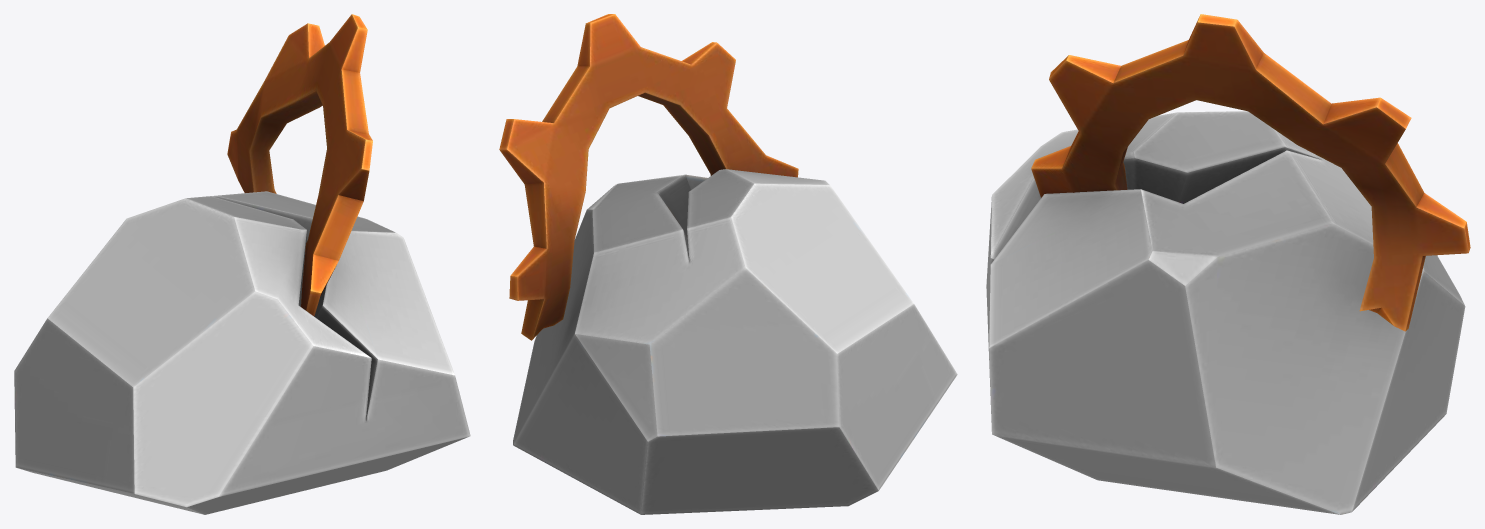
Rendered from obj_stone03_base.gltf.
3 renders of one model, left to right at view 1: azimuth 30°, elevation 25°; view 2: azimuth 150°, elevation 25°; view 3: azimuth 270°, elevation 25°, orthographic. The views are drawn at different scales.
Parts seen in each view (by area): view 1: obj_stone03_base; view 2: obj_stone03_base; view 3: obj_stone03_base.
Boxes of the visible parts, box(x1,y1,x2,y2) form: obj_stone03_base: box(14, 14, 470, 514); obj_stone03_base: box(499, 14, 957, 514); obj_stone03_base: box(986, 14, 1470, 514).
Size of what is drawn, in the model's own units: 1.04 by 1.05 by 0.972.
1 material, 1 textured.
